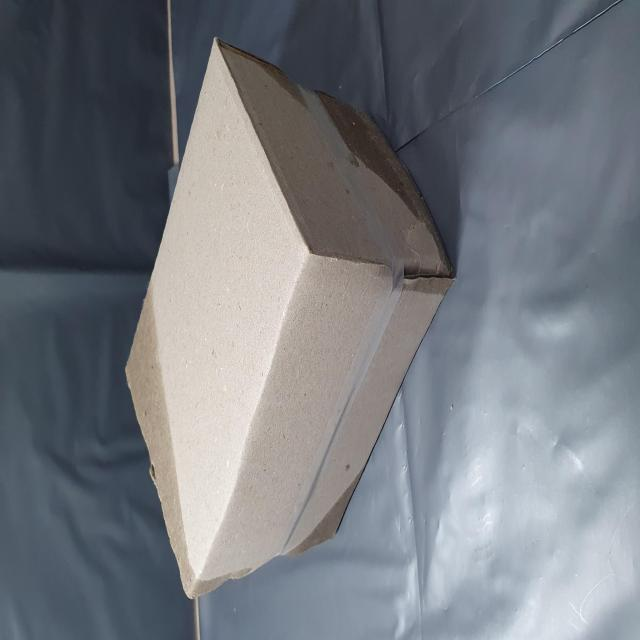wet: (20, 209, 203, 342), (240, 547, 320, 640)
